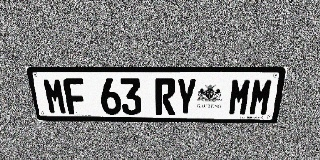3: (120, 78, 142, 115)
6: (99, 78, 122, 115)
F: (62, 78, 88, 114)
M: (248, 78, 275, 116), (227, 78, 253, 116), (42, 78, 68, 114)
R: (155, 78, 176, 115)
Y: (176, 78, 197, 115)
